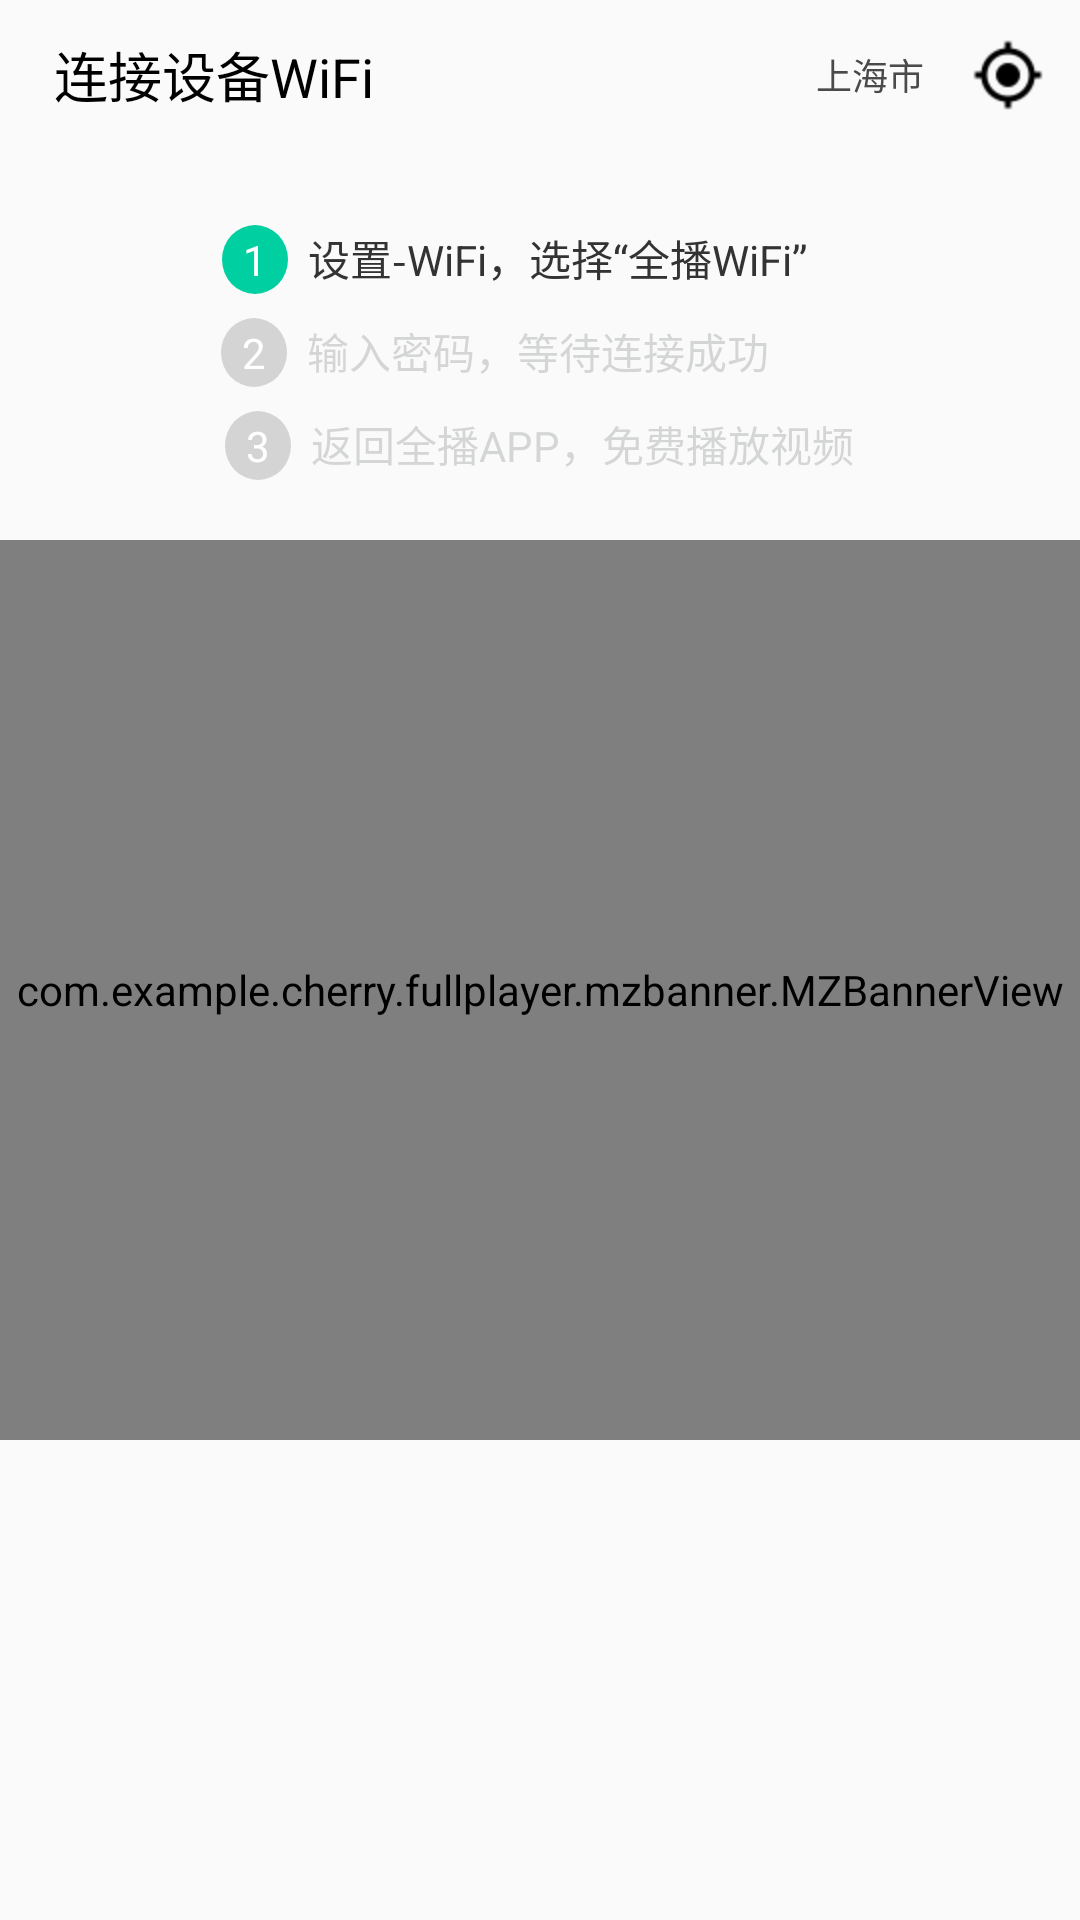

Screen size 1080 × 1920. Icon name, then its center in pixels as (x=x, y=y):
citylists gps: (x=1008, y=75)
